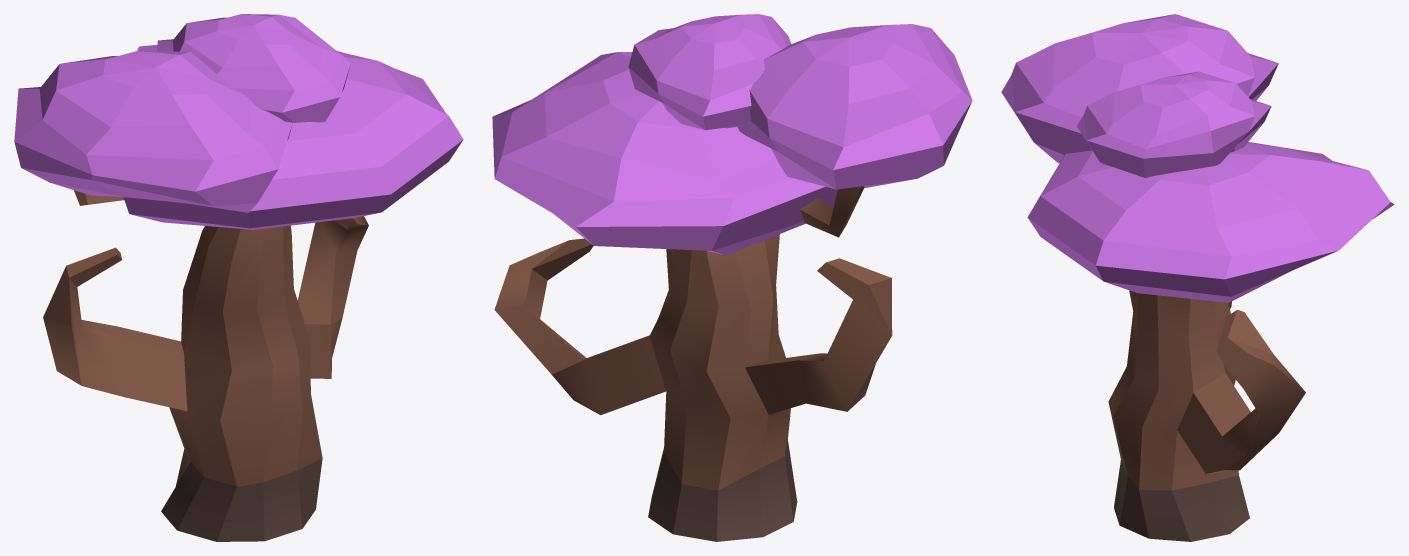
Rendered from BIG-ARBRE-MAYA 1.fbx.
3 renders of one model, left to right at view 1: azimuth 30°, elevation 25°; view 2: azimuth 150°, elevation 25°; view 3: azimuth 270°, elevation 25°, orthographic. The views are drawn at different scales.
Visible parts, largest first — view 1: Trunk; view 2: Trunk; view 3: Trunk.
Part boxes in pixels (box(x1,y1,x2,y2)): Trunk: box(14, 14, 463, 541); Trunk: box(492, 14, 972, 541); Trunk: box(1001, 14, 1394, 541).
Bounding box in the file's own units: 287 × 308 × 253.
